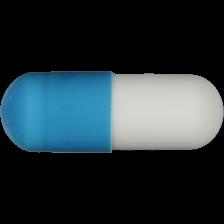49884-455: (0, 0, 224, 224)
